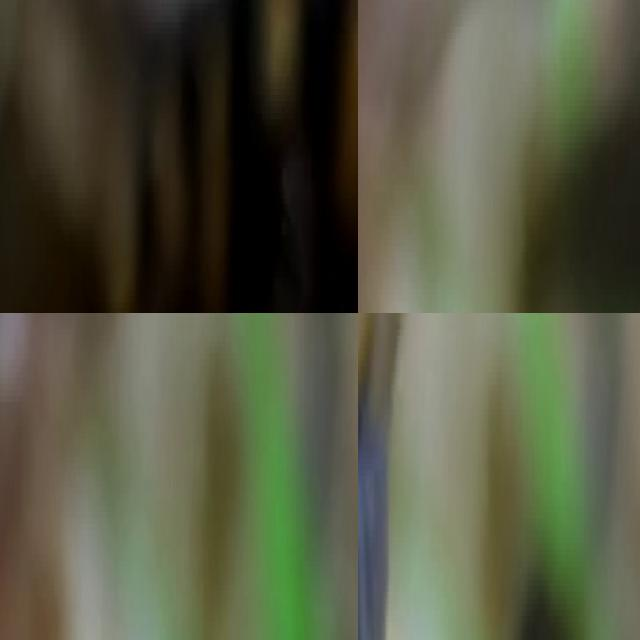fish: (0, 0, 358, 313), (500, 2, 640, 313)
